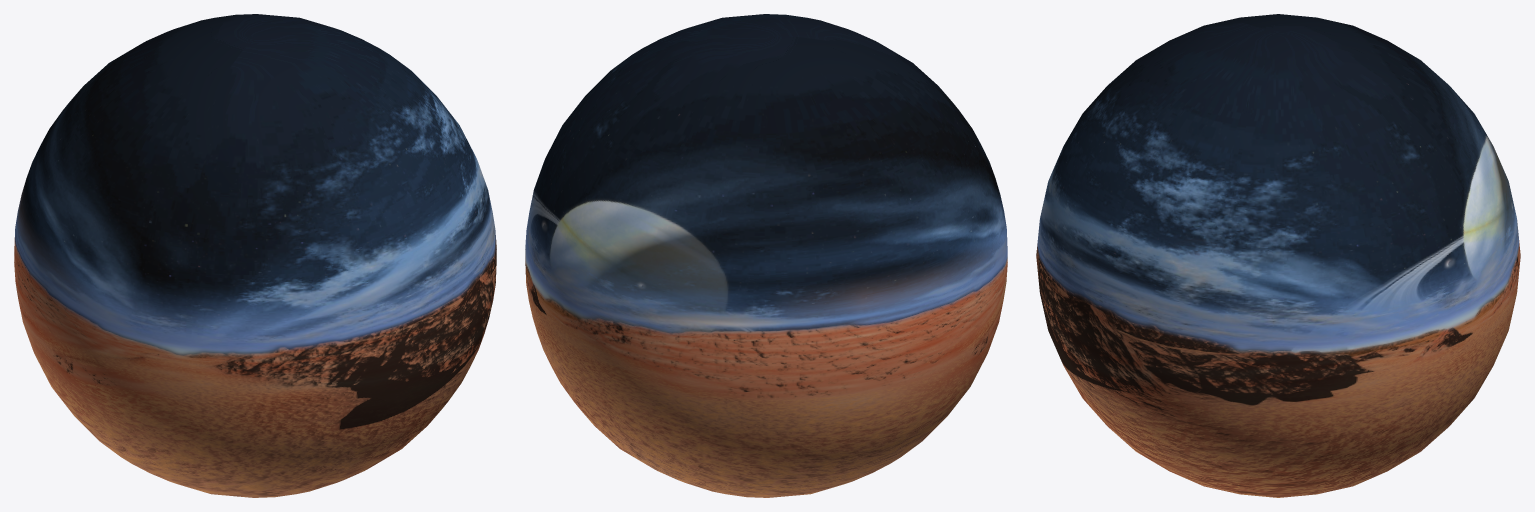
The model's file is skysphere.fbx.
3 views of the same model, side by side, from view 1: azimuth 30°, elevation 25°; view 2: azimuth 150°, elevation 25°; view 3: azimuth 270°, elevation 25° (orthographic).
Parts seen in each view (by area): view 1: Sphere; view 2: Sphere; view 3: Sphere.
Boxes of the visible parts, bbox=[...] form: Sphere: bbox=[14, 14, 496, 497]; Sphere: bbox=[525, 14, 1007, 497]; Sphere: bbox=[1036, 14, 1520, 497].
Size of the model in its own units: 1.97 by 1.97 by 1.97.
